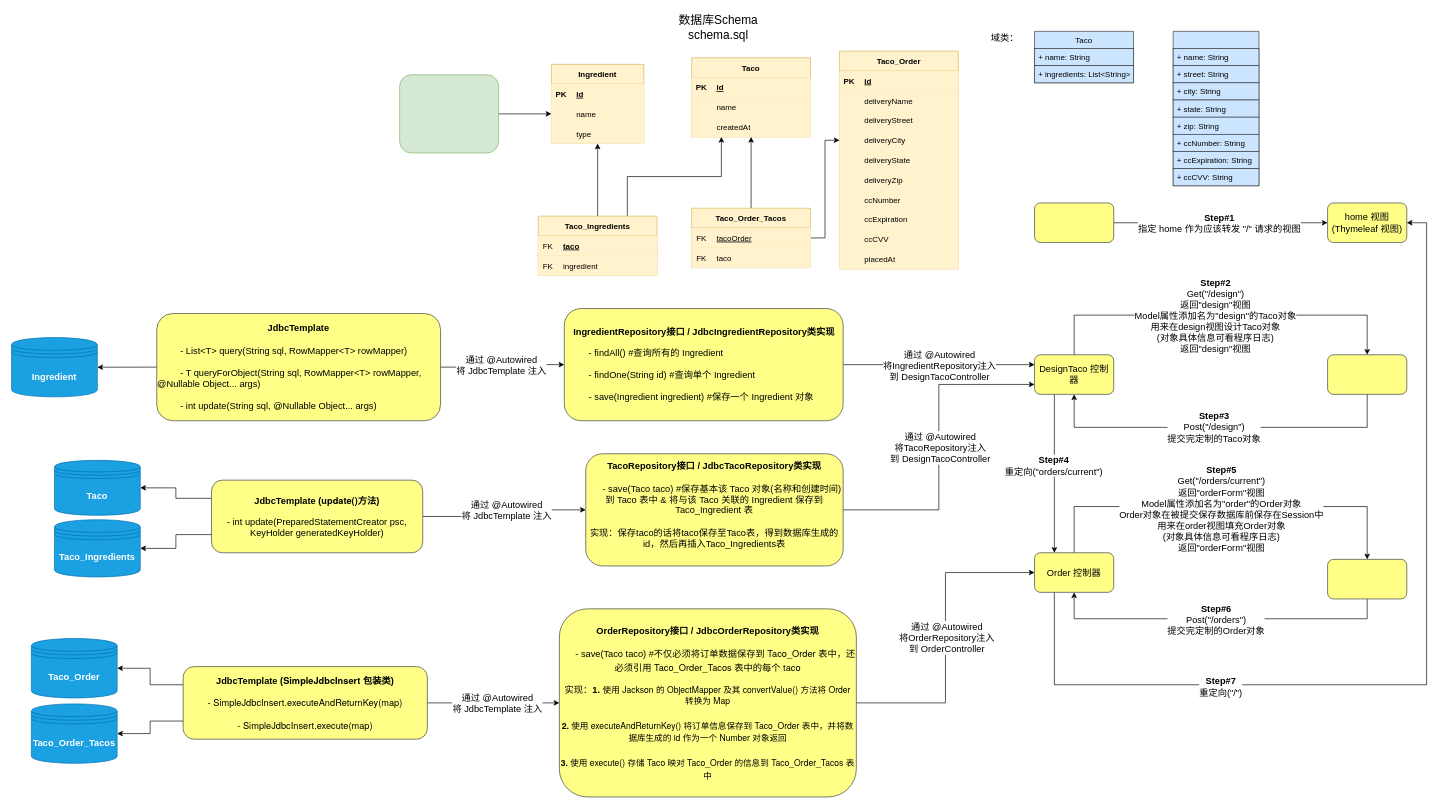
Some shapes in this 1443 by 809 pixel diagram are drawn without their labels. The box of each missing label's shape, as (x1, y1, x2, y2) in pixels:
data.sql 预加载一些已有的Ingredient数据到数据库 提供现有的原料让顾客设计自己的taco: (399, 74, 499, 153)
design 视图 ( Thymeleaf 视图 ): (1327, 354, 1407, 394)
Order: (1172, 31, 1259, 186)
orderForm 视图 ( Thymeleaf 视图 ): (1327, 559, 1407, 599)
WebConfig 视图控制器: (1034, 202, 1114, 243)
